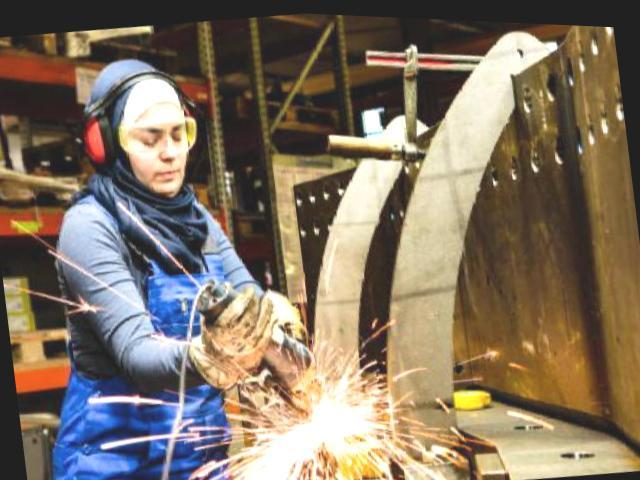Hand-in-Glove: (180, 277, 288, 392)
